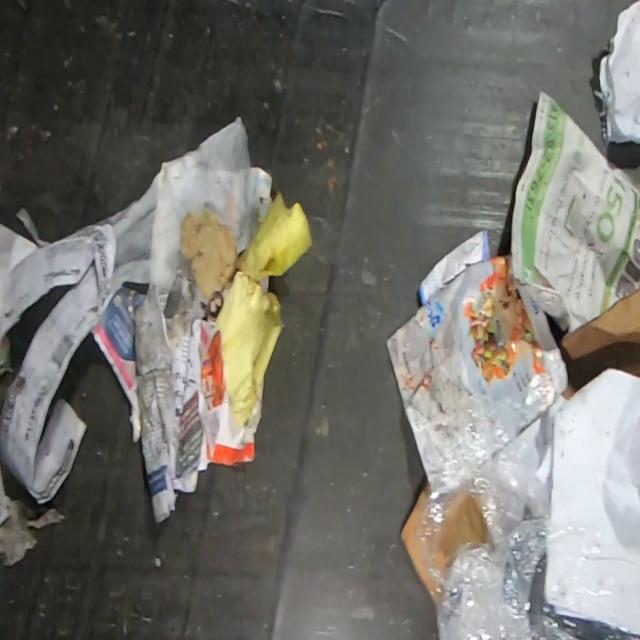cardboard: (562, 289, 640, 400), (400, 492, 434, 601)
soft_plastic: (414, 392, 637, 638)
